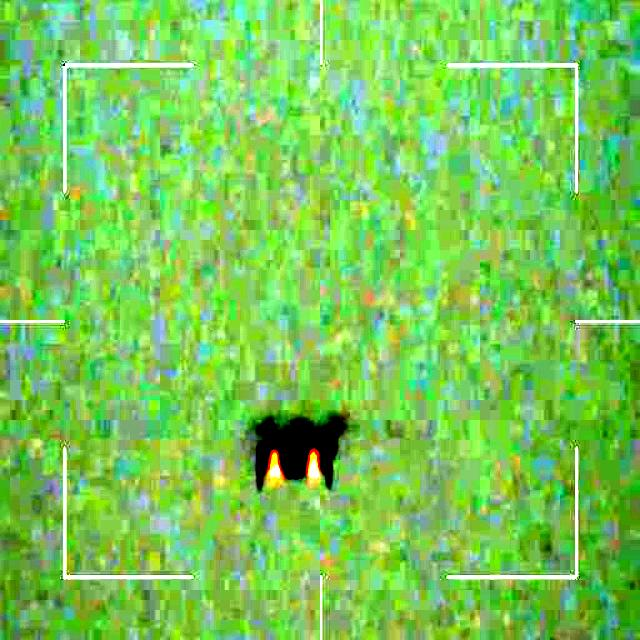bird: (252, 415, 345, 491)
